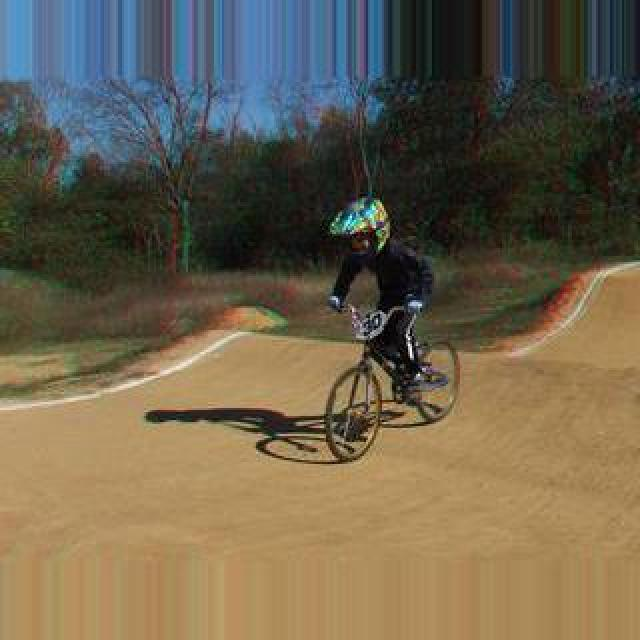MC-Bike: (324, 198, 438, 404)
Person: (322, 299, 462, 463)
